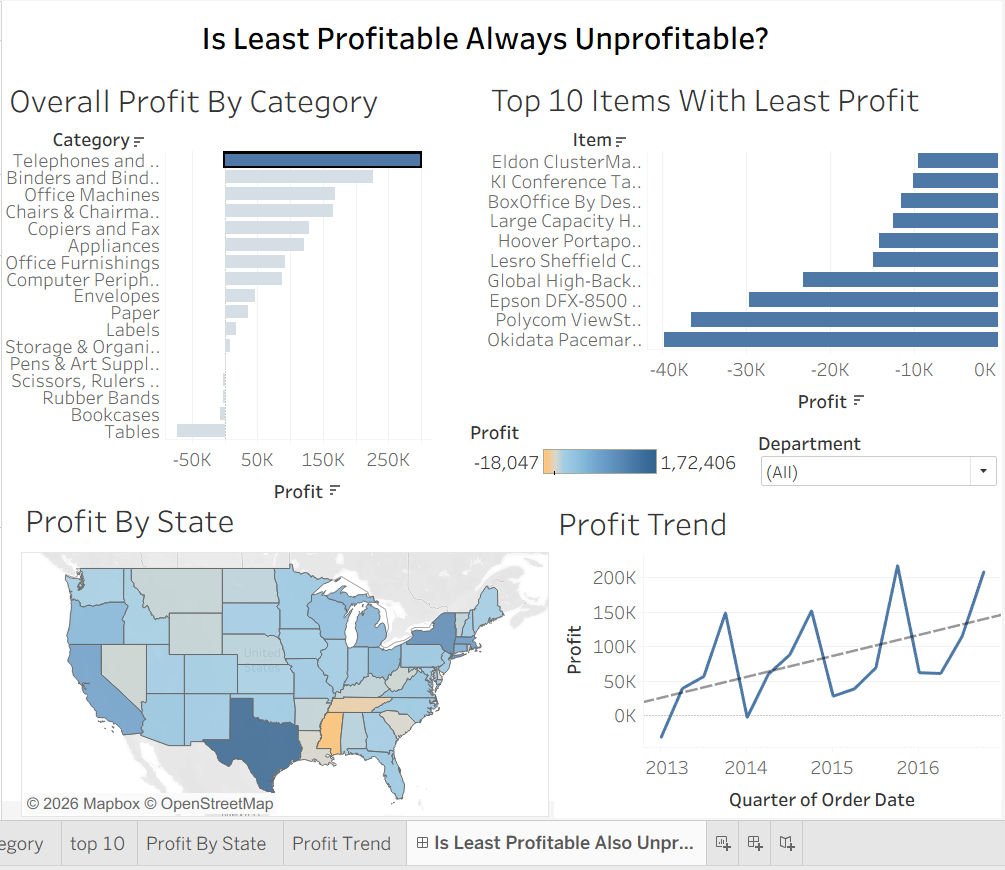

What the dashboard file says about the page in this screenshot:
{"tool":"tableau","page":{"name":"Is Least Profitable Also Unprofitable","canvas":[1000,800],"ordinal":0},"visuals":[{"type":"text","box":[170,11,626,50]},{"type":"worksheet","title":"top 10","mark":"Automatic","rows":["Item"],"cols":["Profit"],"box":[485,73,511,346]},{"type":"worksheet","title":"Profit By Category","mark":"Automatic","rows":["Category"],"cols":["Profit"],"box":[3,74,427,435]},{"type":"legend","title":"Profit By State","param":"[federated.0onycc21bqxfjx16l6ci80ledj3n].[sum:Profit:qk]","box":[468,418,271,104]},{"type":"filter","title":"Profit By Category","param":"[federated.0onycc21bqxfjx16l6ci80ledj3n].[none:Department:nk]","box":[756,429,242,57]}]}

Visuals, with their boxes on the page's 1000x800 design canvas (x1, y1, x2, y2). These are canvas units, not pixel positions in the 1005x870 screenshot, which may show the page scaled, cropped or inside an application window:
text: 170:11:796:61
"top 10" worksheet: 485:73:996:419
"Profit By Category" worksheet: 3:74:430:509
"Profit By State" legend: 468:418:739:522
"Profit By Category" filter: 756:429:998:486
